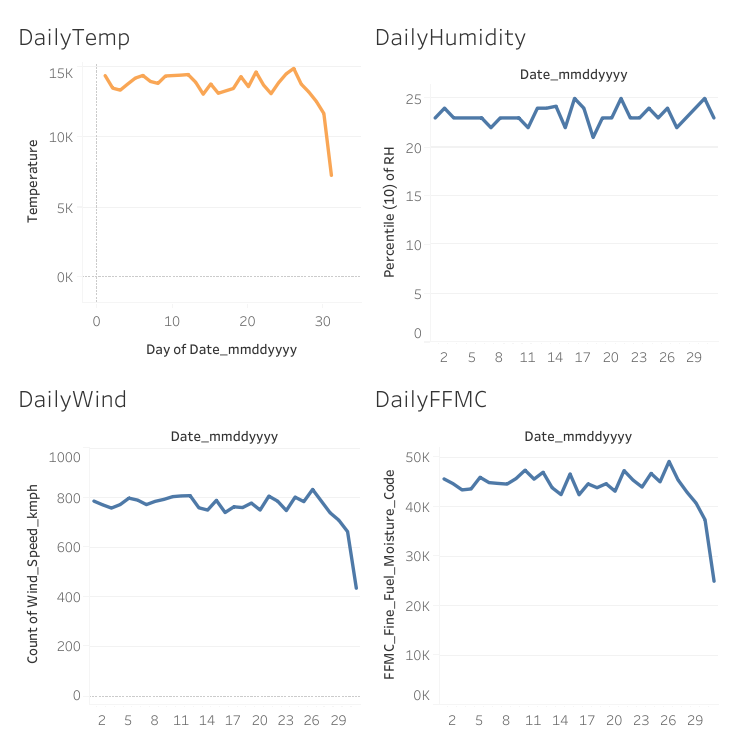

Layout of this report page (visuals, bound fields, positions):
{"tool":"tableau","page":{"name":"ForestFireDashboard","canvas":[650,860],"ordinal":0},"visuals":[{"type":"worksheet","title":"DailyTemp","mark":"Automatic","rows":["F8"],"cols":["F3"],"box":[8,8,317,422]},{"type":"worksheet","title":"DailyHumidity","mark":"Automatic","rows":["F9"],"cols":["F3"],"box":[325,8,317,422]},{"type":"worksheet","title":"DailyWind","mark":"Automatic","rows":["F10"],"cols":["F3"],"box":[8,430,317,422]},{"type":"worksheet","title":"DailyFFMC","mark":"Automatic","rows":["F4"],"cols":["F3"],"box":[325,430,317,422]}]}

Visuals, with their boxes on the page's 650x860 design canvas (x1, y1, x2, y2). These are canvas units, not pixel positions in the 730x741 screenshot, which may show the page scaled, cropped or inside an application window:
"DailyTemp" worksheet: 8,8,325,430
"DailyHumidity" worksheet: 325,8,642,430
"DailyWind" worksheet: 8,430,325,852
"DailyFFMC" worksheet: 325,430,642,852
